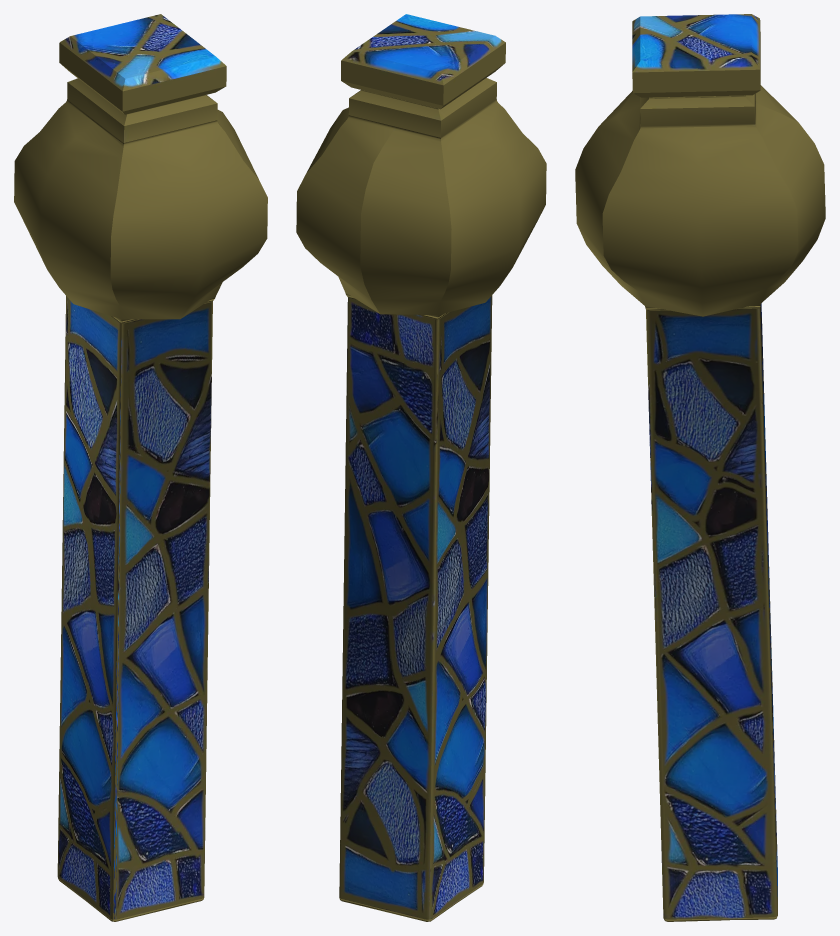
The model's file is leverHandle_lowPoly_lowPoly.glb.
The picture shows the model from 3 angles, left to right: view 1: azimuth 30°, elevation 25°; view 2: azimuth 150°, elevation 25°; view 3: azimuth 270°, elevation 25°; orthographic projection. The views are drawn at different scales.
Parts seen in each view (by area): view 1: Mesh_1.002; view 2: Mesh_1.002; view 3: Mesh_1.002.
Boxes of the visible parts, x1,y1,x2,y2 form: Mesh_1.002: (14,14,267,921); Mesh_1.002: (296,14,546,921); Mesh_1.002: (575,14,825,921).
Size of the model in its own units: 0.206 by 0.8396 by 0.221.
Materials: 1 (1 with a texture image).
